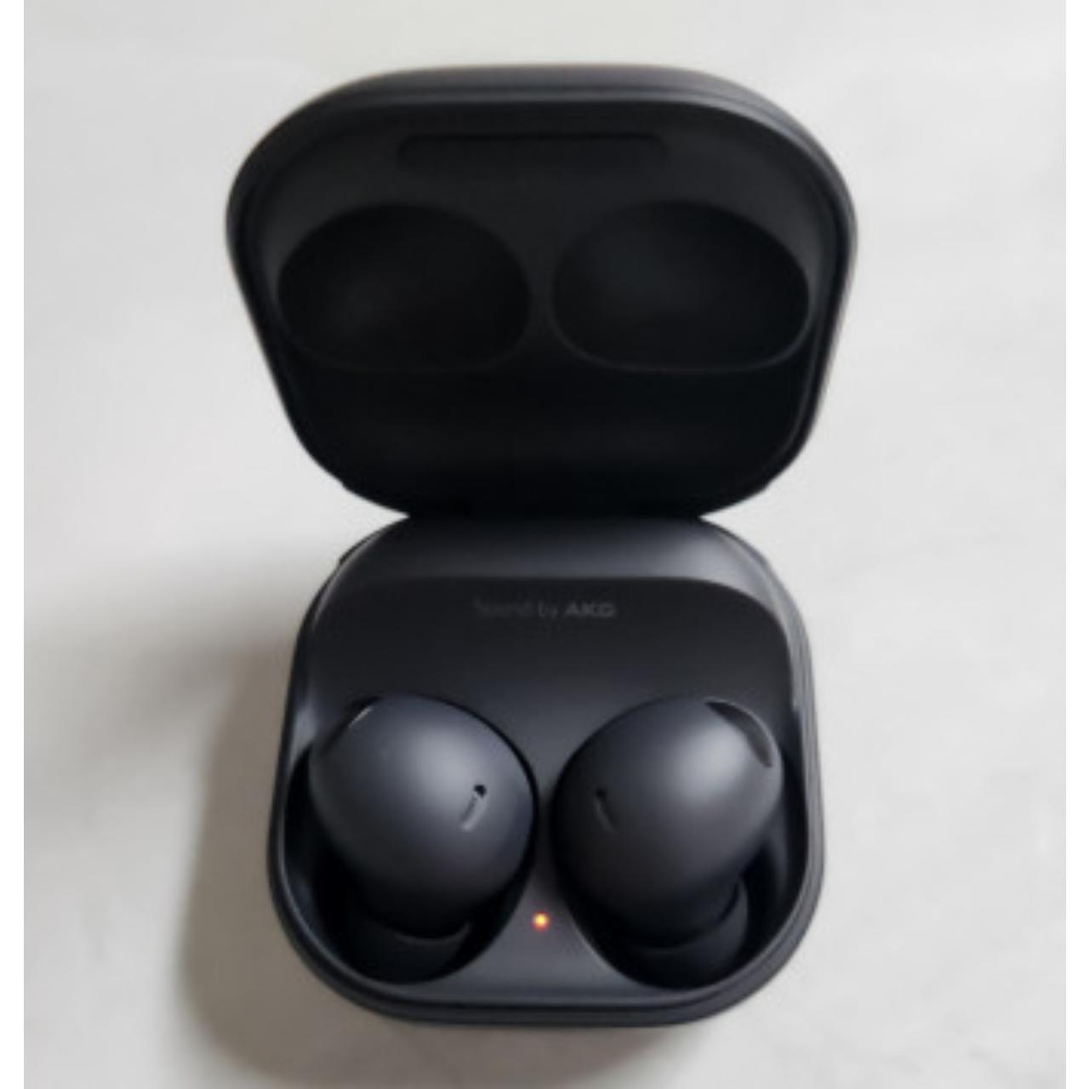Buds: (220, 60, 859, 1026)
Buds_Units: (541, 681, 810, 993), (274, 688, 544, 990)
